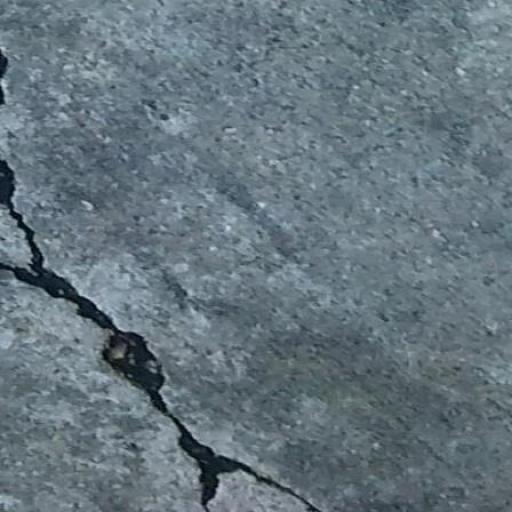spalling: (5, 50, 337, 508)
